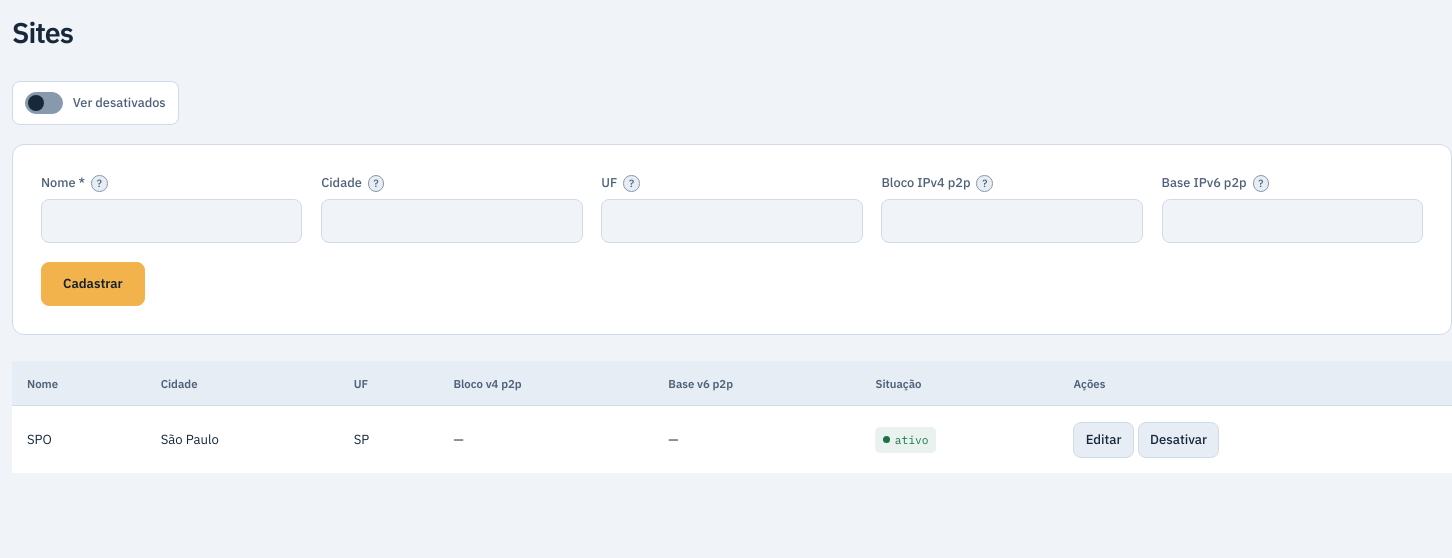
Sites › ver desativados liga include_disabled e mostra o badge de inativo
Check: the text "SPO" is shown, box [12,406,146,474]
Click the checkbox labelled "Ver desativados" at [44, 103], box [25,92,63,114]
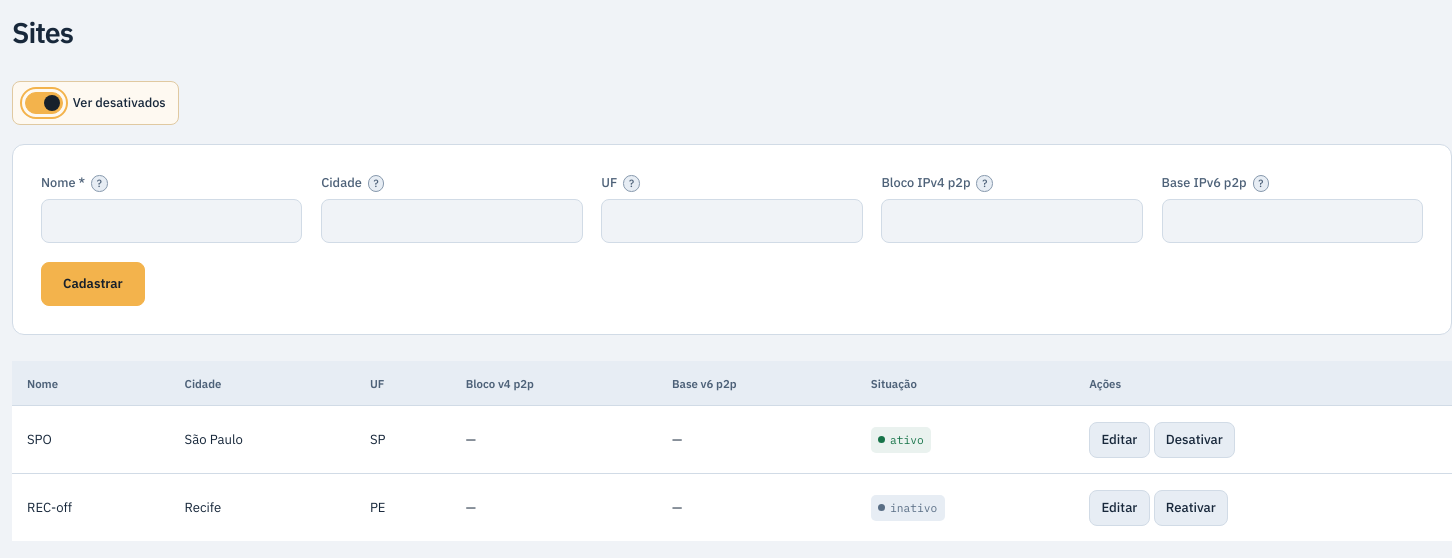
Check: the text "REC-off" is shown, box [12,474,170,542]
Check: the text "inativo" is shown, box [871,495,945,521]
